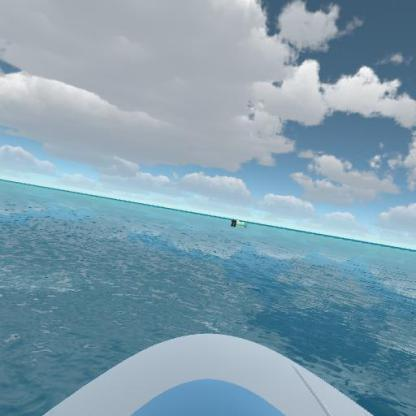usv0: (230, 216, 251, 230)
